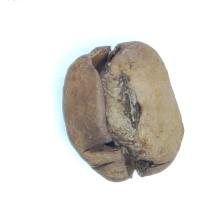NG: (87, 44, 166, 173)
